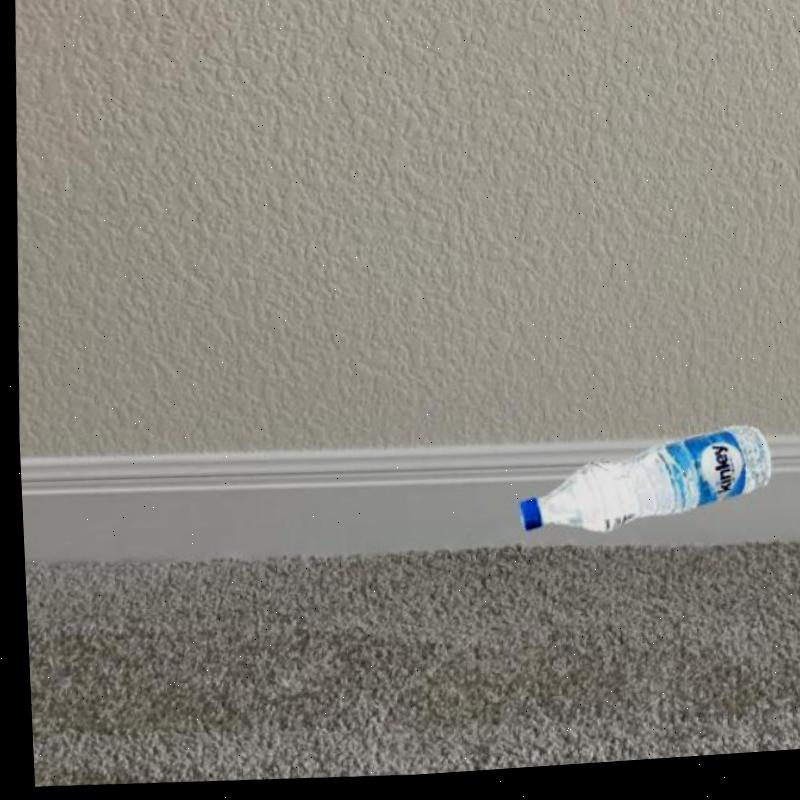botella: (509, 422, 771, 551)
